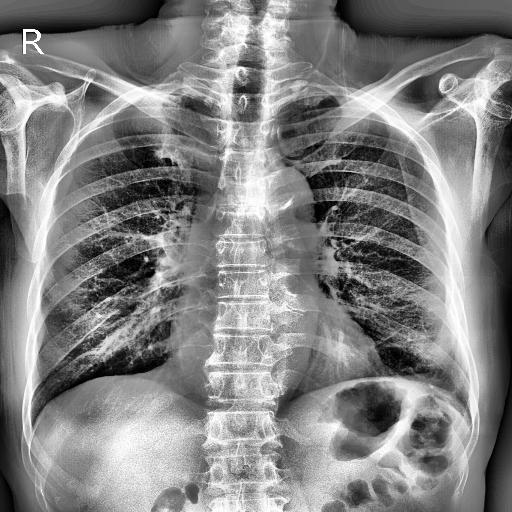0- Aortic enlargement: (246, 166, 319, 243), (241, 166, 313, 230), (254, 164, 317, 229)
11- Pleural thickening: (304, 93, 338, 128), (288, 88, 338, 106), (288, 95, 338, 106), (152, 91, 204, 99)
13- Pulmonary fibrosis: (306, 101, 326, 137)
